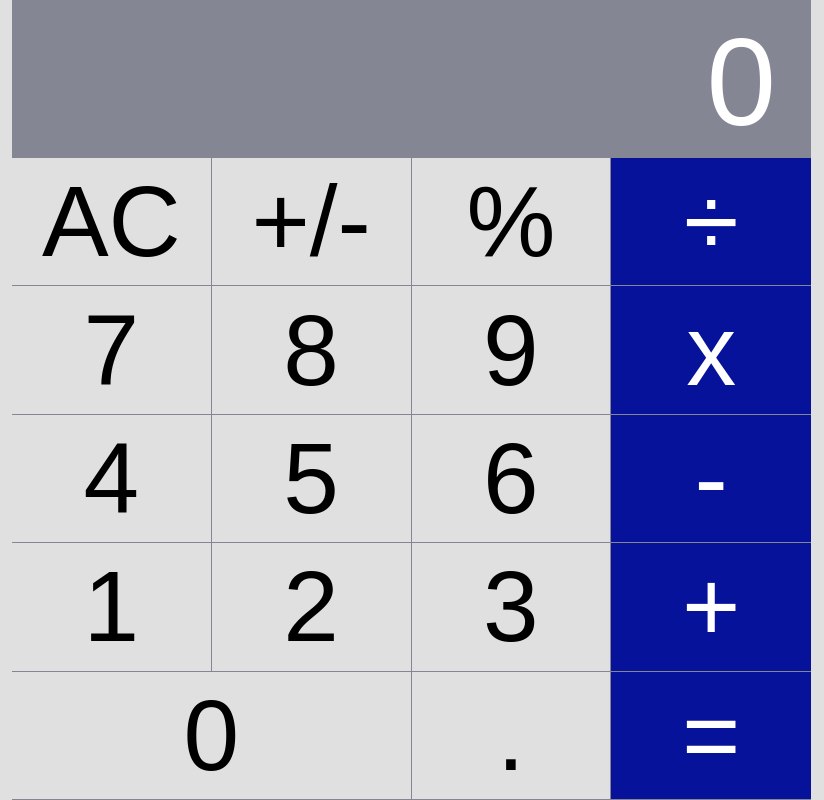
Test: Verify Calculator Add Functionality › Verify 1 + 1 = 2
The image size is (824, 800).
Click the button with test id "Calc-Button-1".
click(112, 607)  # box top-left (12, 543), bottom-right (211, 670)
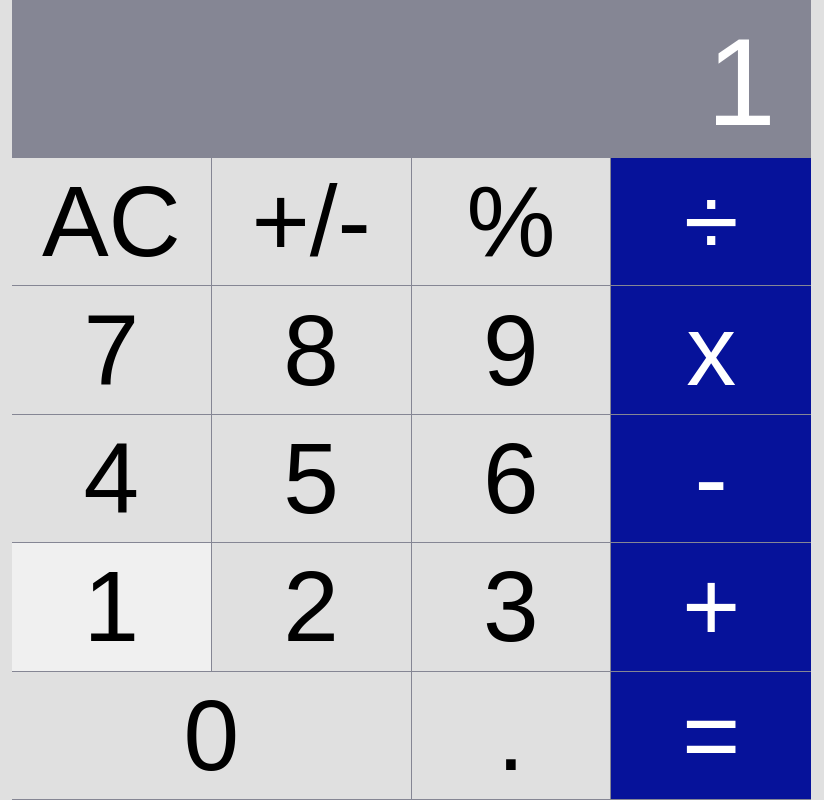
Expected: the text with test id "Calc-Display" reads "1", top-left (706, 12), bottom-right (776, 151)
Click the button "+".
click(711, 607)  # box top-left (611, 543), bottom-right (811, 670)
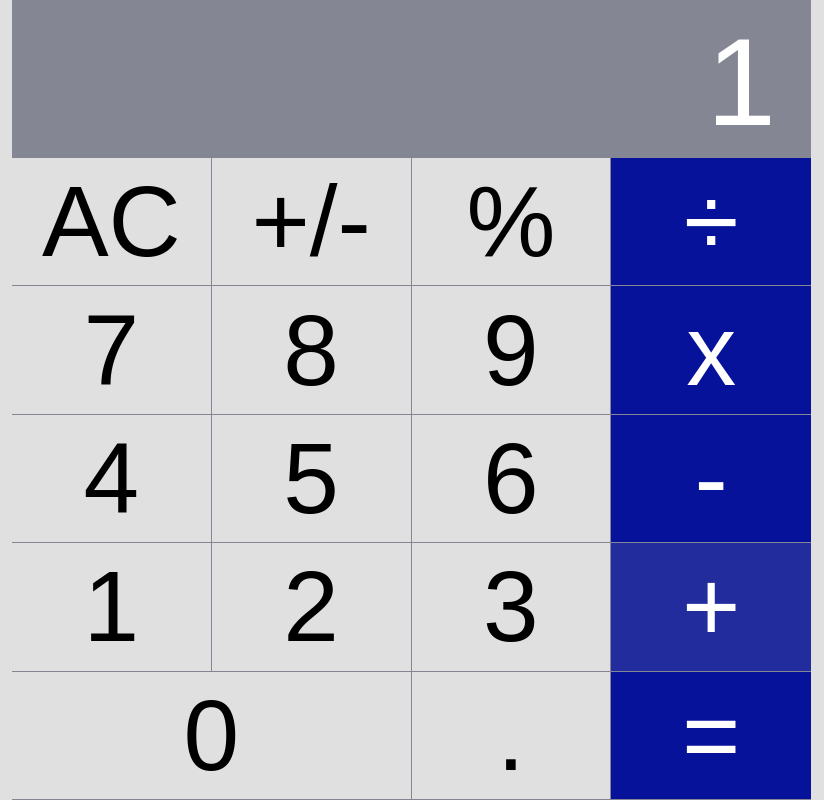
Expected: the text with test id "Calc-Display" reads "1", top-left (706, 12), bottom-right (776, 151)
Click the button with test id "Calc-Button-1".
click(112, 607)  # box top-left (12, 543), bottom-right (211, 670)
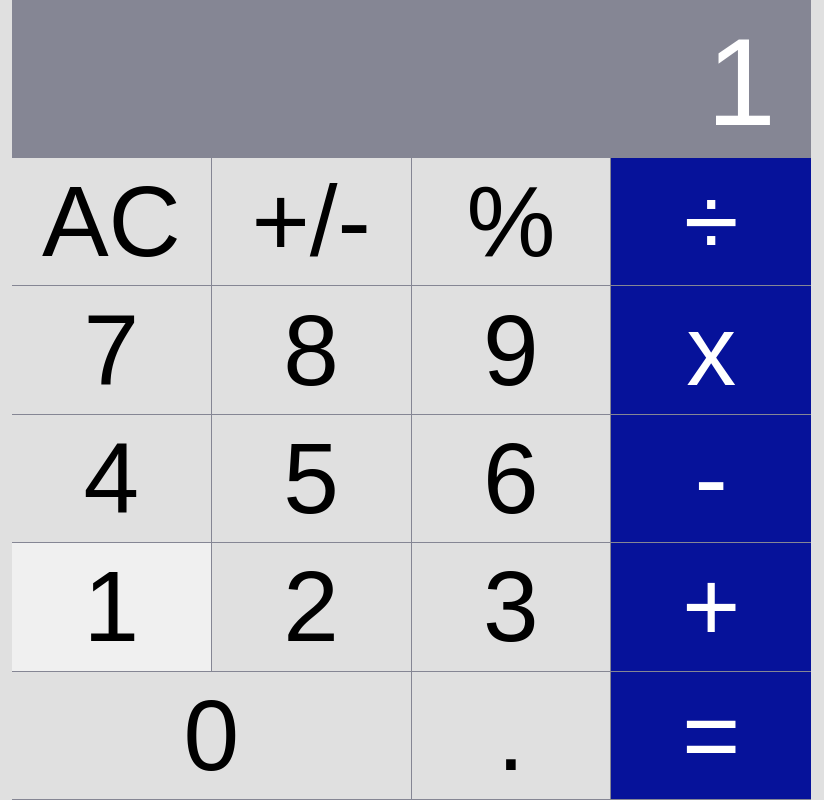
Expected: the text with test id "Calc-Display" reads "1", top-left (706, 12), bottom-right (776, 151)
Click the button "=".
click(711, 736)  # box top-left (611, 672), bottom-right (811, 799)
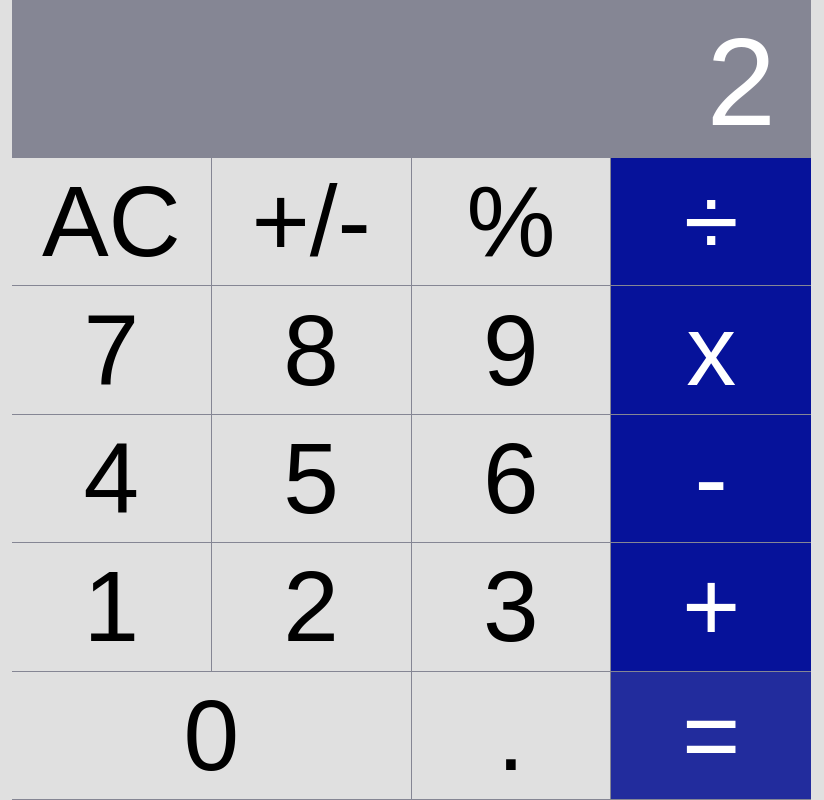
Expected: the text with test id "Calc-Display" reads "2", top-left (706, 12), bottom-right (776, 151)
